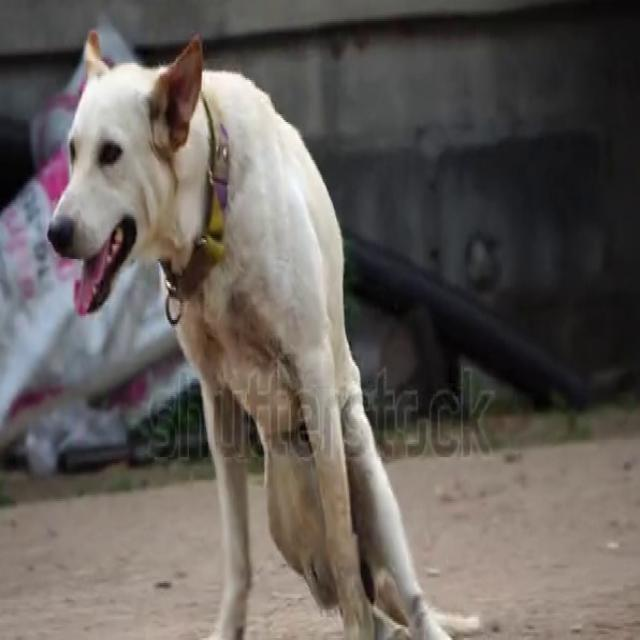injured-animals: (43, 25, 481, 638)
